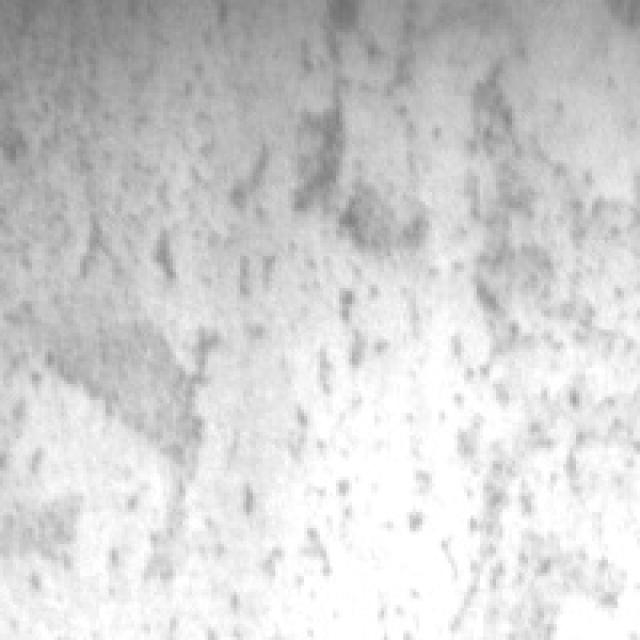pitted_surface: (141, 90, 432, 572), (464, 58, 640, 627)
